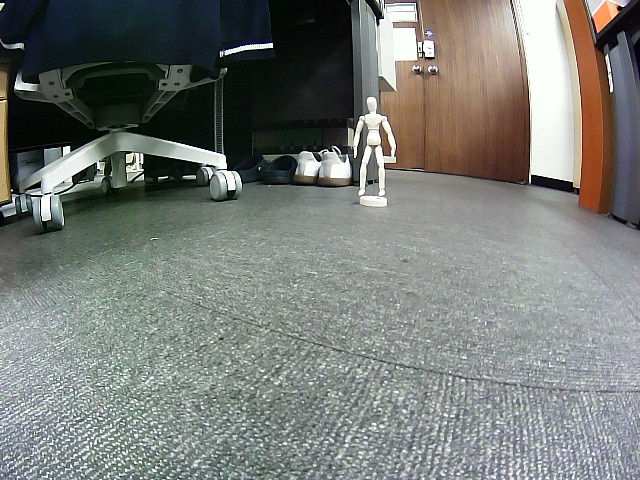person: (352, 97, 396, 197)
